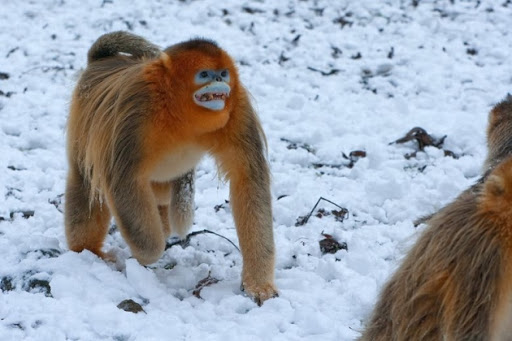GoldenSnub-Nosed: (81, 31, 276, 274)
